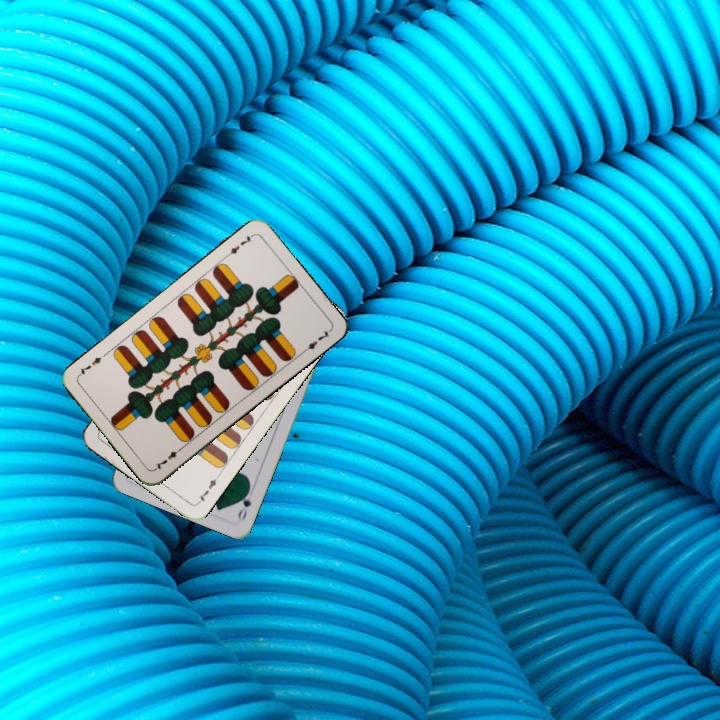E7: (193, 471, 222, 507), (151, 443, 185, 473), (222, 230, 256, 260)
GO: (234, 484, 255, 523)
